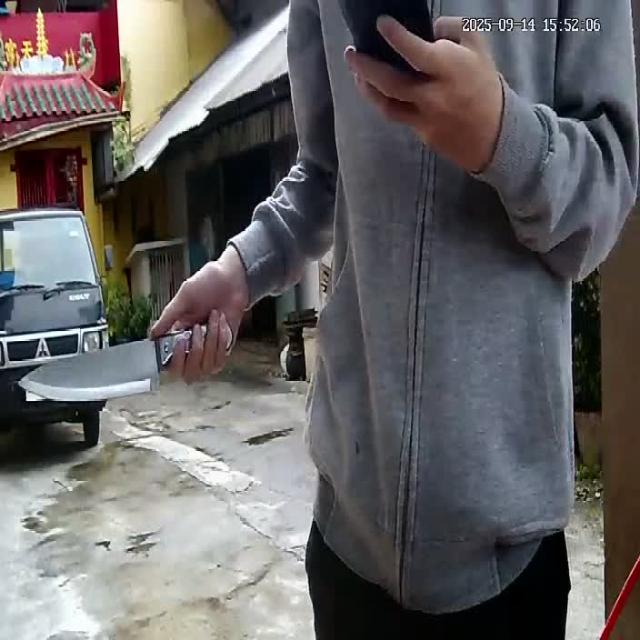senjata_tajam: (16, 337, 171, 402)
